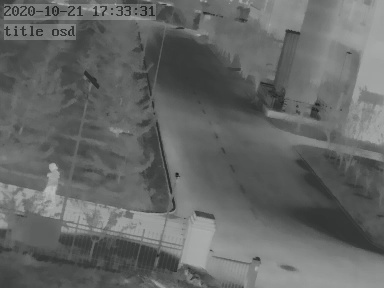person: (44, 162, 62, 203)
